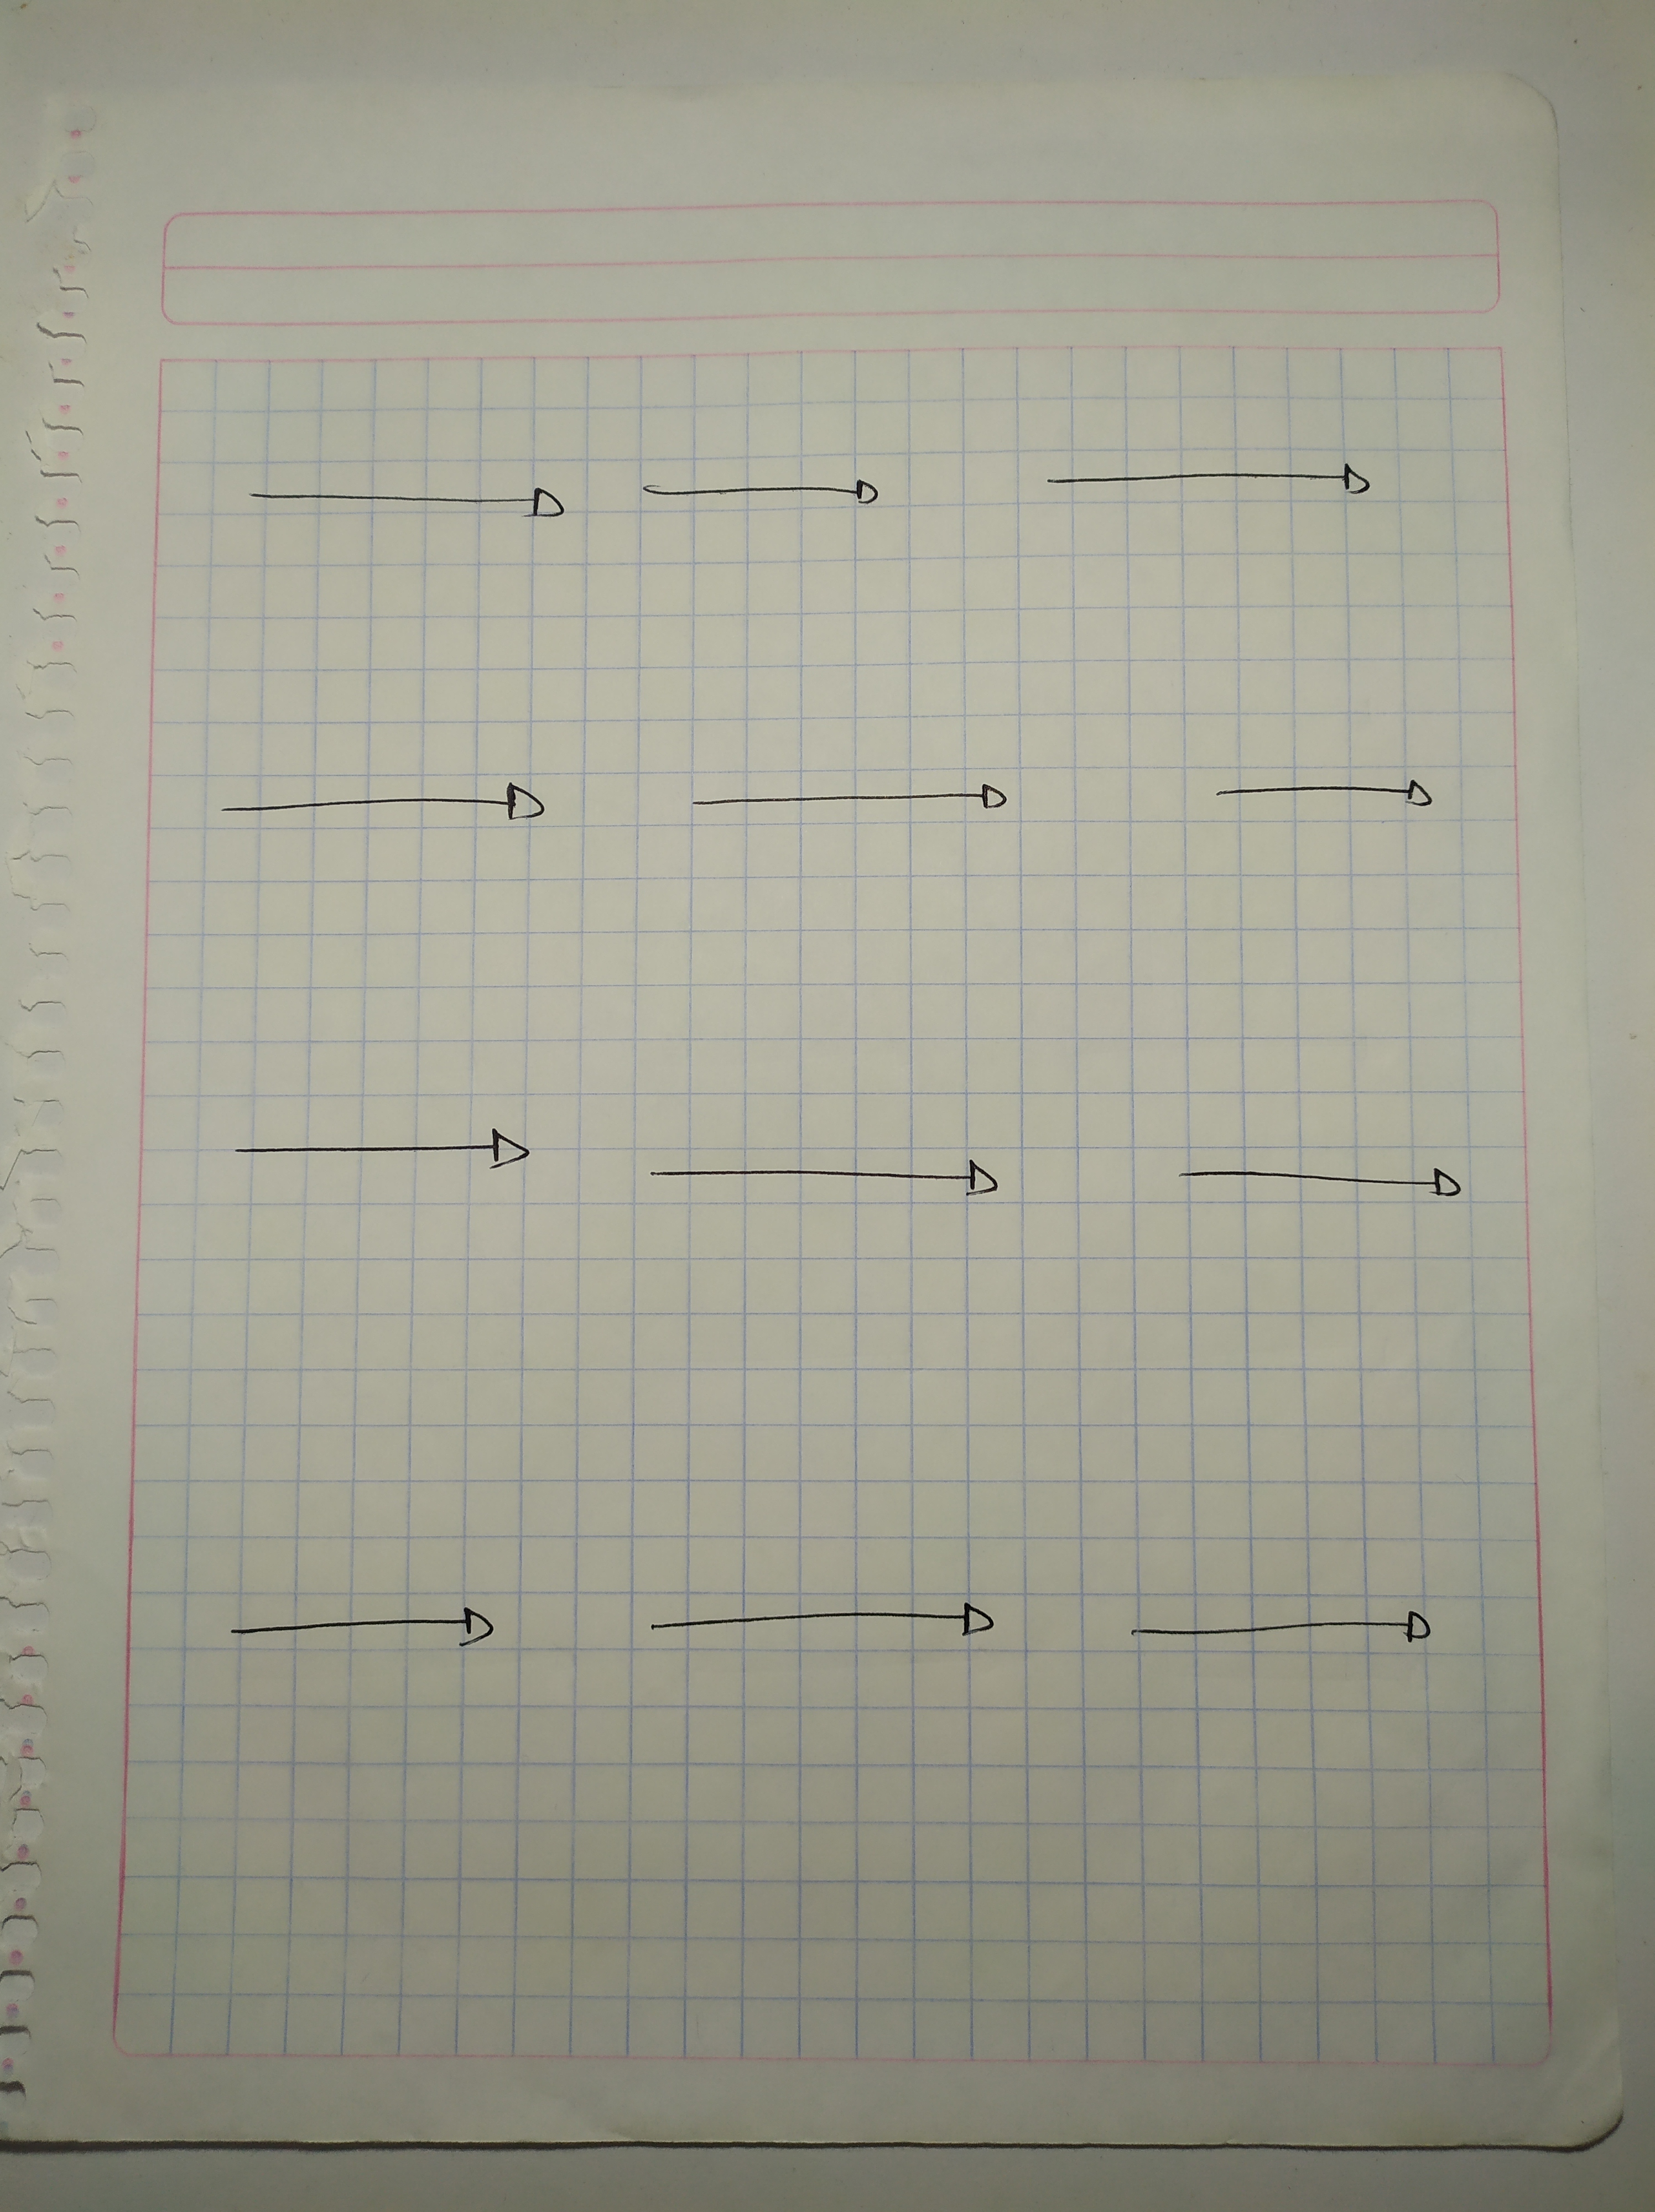arrow_line_right: (1142, 1129, 1502, 1251), (189, 742, 567, 857), (643, 758, 1080, 850), (203, 1564, 530, 1682), (612, 1583, 1015, 1673), (1093, 1583, 1466, 1673), (226, 457, 582, 544), (1172, 742, 1467, 843), (610, 1136, 1005, 1211), (200, 1116, 541, 1201), (1038, 443, 1389, 520), (607, 454, 939, 532)
